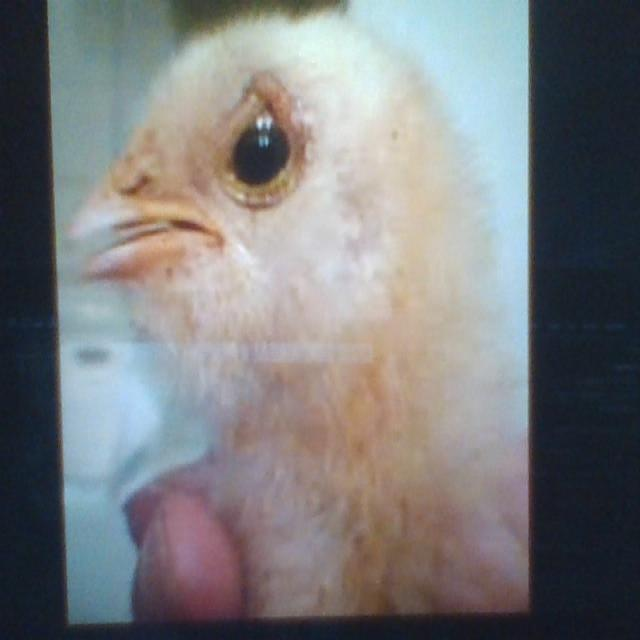Sick: (69, 7, 533, 620)
